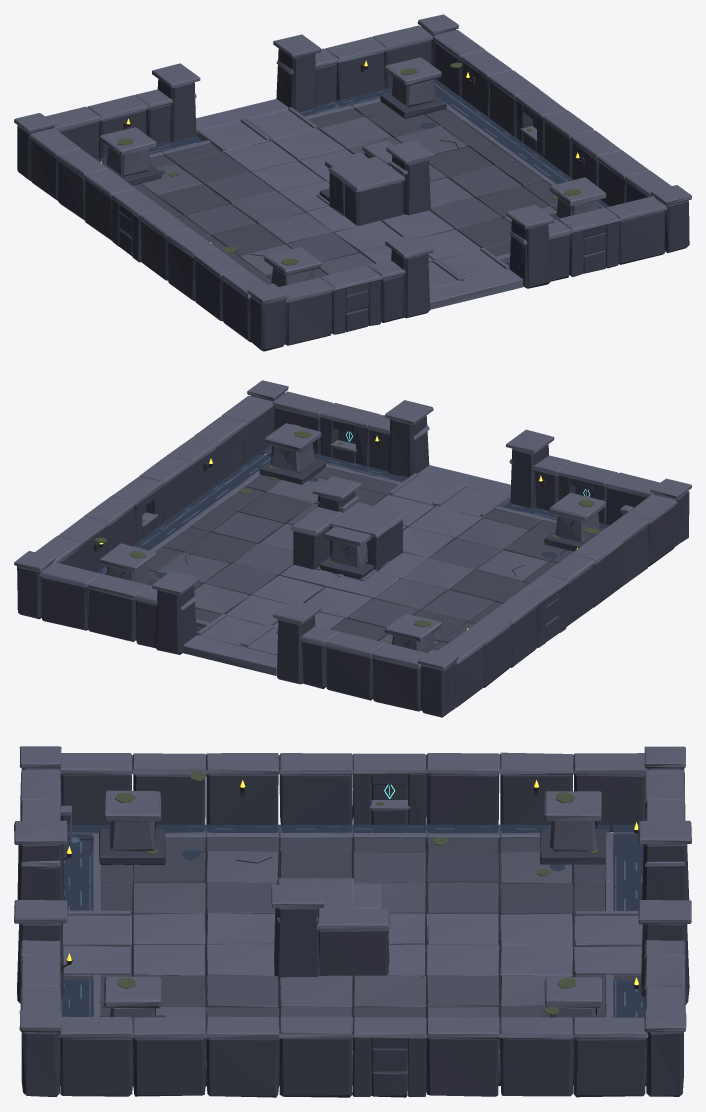
Rendered from FloodedCrypt_render.glb.
3 views of the same model, one above another, from view 1: azimuth 30°, elevation 25°; view 2: azimuth 150°, elevation 25°; view 3: azimuth 270°, elevation 25° (orthographic). The views are drawn at different scales.
Visible parts, largest first — view 1: Room_wall_stoneDark, Room_wall_cap, Room_floor_wet, Room_floor_walk, Room_jamb_stoneDark, Room_bridge_walk, Room_floor_stoneB, Room_floor_stoneC, Room_floor_stone, Room_pillar_cap, Room_water_water, Room_jamb_cap (+12 smaller); view 2: Room_wall_stoneDark, Room_wall_cap, Room_floor_wet, Room_floor_walk, Room_jamb_stoneDark, Room_bridge_walk, Room_floor_stoneB, Room_floor_stoneC, Room_floor_stone, Room_pillar_cap, Room_water_water, Room_jamb_cap (+13 smaller); view 3: Room_wall_stoneDark, Room_wall_cap, Room_floor_wet, Room_floor_walk, Room_floor_stoneB, Room_water_water, Room_floor_stone, Room_bridge_walk, Room_pillar_cap, Room_floor_stoneC, Room_curb_cap, Room_jamb_stoneDark (+12 smaller).
Part boxes in pixels (box(x1,y1,x2,y2)): Room_wall_stoneDark: box(17, 26, 689, 351); Room_wall_cap: box(14, 14, 691, 303); Room_floor_wet: box(132, 101, 557, 283); Room_floor_walk: box(224, 129, 480, 263); Room_jamb_stoneDark: box(157, 48, 551, 318); Room_bridge_walk: box(196, 99, 523, 309); Room_floor_stoneB: box(184, 137, 521, 261); Room_floor_stoneC: box(239, 117, 556, 275); Room_floor_stone: box(141, 126, 466, 274); Room_pillar_cap: box(99, 57, 606, 276); Room_water_water: box(96, 79, 609, 268); Room_jamb_cap: box(152, 34, 554, 258); Room_wall_stoneDark: box(17, 392, 689, 717); Room_wall_cap: box(14, 380, 691, 669); Room_floor_wet: box(148, 467, 573, 649); Room_floor_walk: box(226, 495, 481, 629); Room_jamb_stoneDark: box(154, 415, 548, 684); Room_bridge_walk: box(183, 465, 510, 675); Room_floor_stoneB: box(204, 503, 501, 628); Room_floor_stoneC: box(194, 476, 549, 614); Room_floor_stone: box(157, 518, 528, 645); Room_pillar_cap: box(100, 423, 605, 641); Room_water_water: box(96, 445, 609, 635); Room_jamb_cap: box(152, 400, 554, 624); Room_wall_stoneDark: box(21, 768, 684, 1097); Room_wall_cap: box(19, 746, 686, 1038); Room_floor_wet: box(100, 837, 605, 1049); Room_floor_walk: box(133, 913, 572, 976); Room_floor_stoneB: box(206, 852, 499, 1016); Room_water_water: box(60, 824, 646, 1074); Room_floor_stone: box(133, 851, 571, 1017); Room_bridge_walk: box(63, 914, 642, 979); Room_pillar_cap: box(103, 790, 602, 1008); Room_floor_stoneC: box(154, 851, 571, 1017); Room_curb_cap: box(63, 832, 642, 1059); Room_jamb_stoneDark: box(17, 844, 689, 1004).
Bounding box in the file's own units: 18.14 × 2.8 × 18.46.
